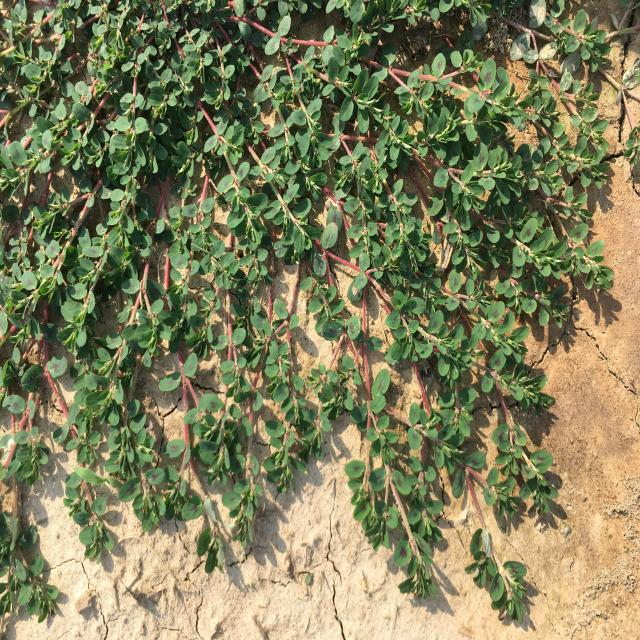SpottedSpurge: (0, 1, 640, 624)
